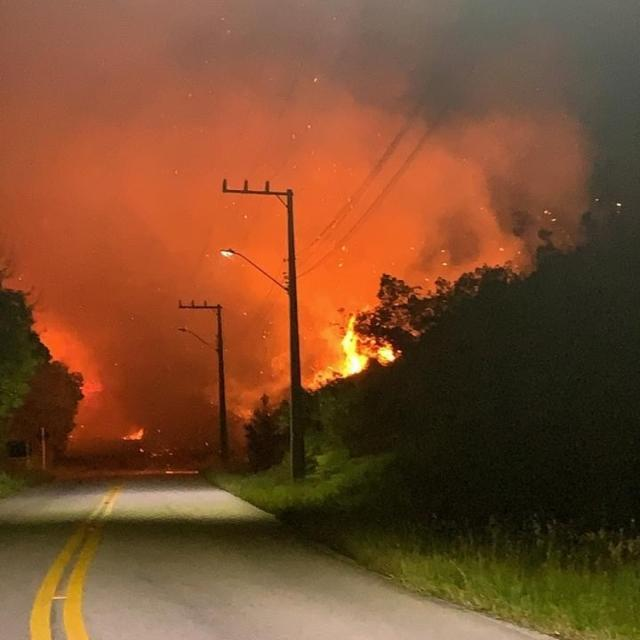Fire: (314, 304, 400, 384), (234, 405, 256, 423), (121, 428, 145, 442)
Smoke: (0, 0, 295, 284), (295, 106, 589, 272), (82, 286, 300, 399), (34, 284, 82, 362), (66, 398, 120, 466)
